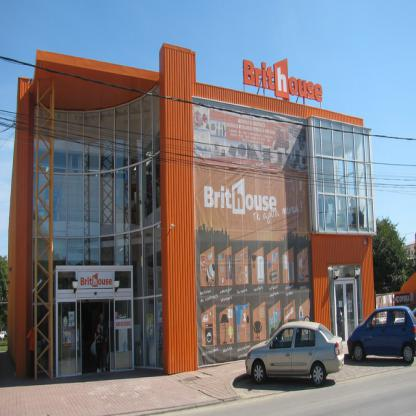Car: (244, 319, 344, 386), (342, 305, 416, 366)
